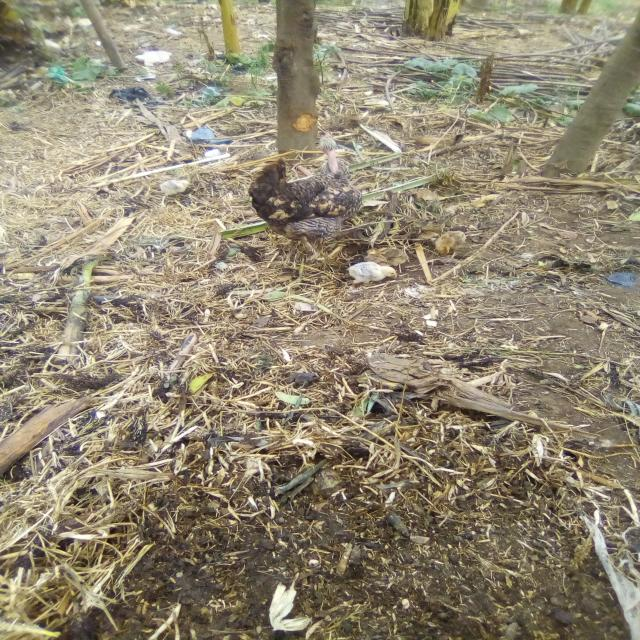hen: (204, 130, 417, 264)
